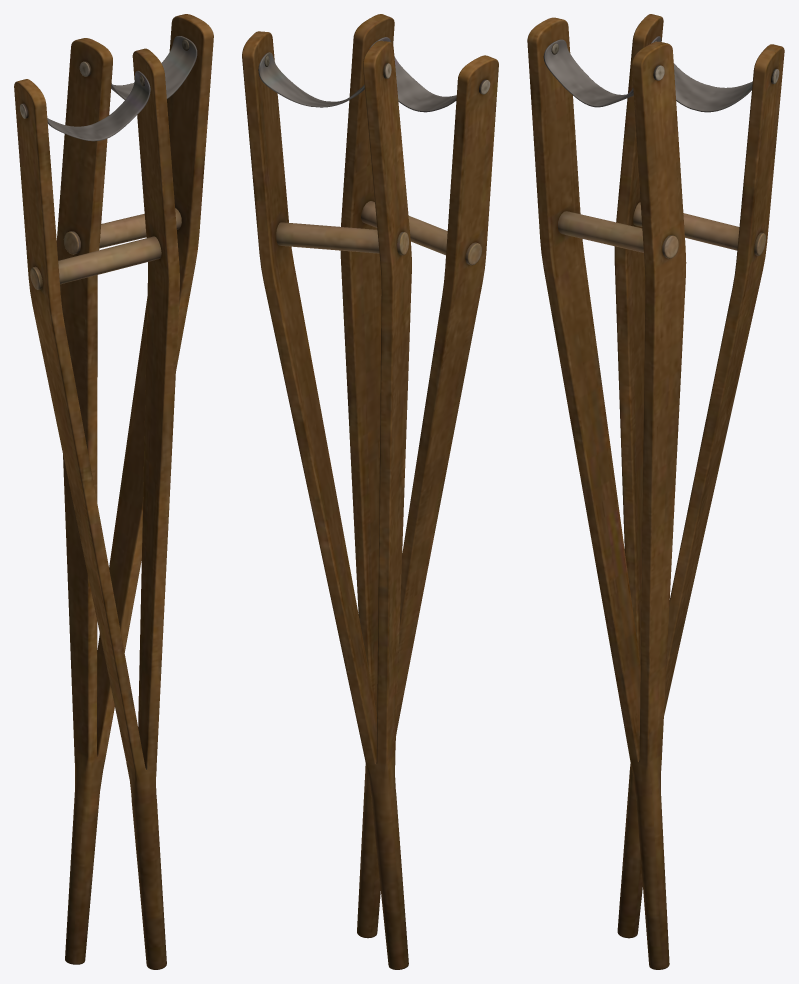
3 renders of one model, left to right at view 1: azimuth 30°, elevation 25°; view 2: azimuth 150°, elevation 25°; view 3: azimuth 330°, elevation 25°, orthographic.
Parts seen in each view (by area): view 1: vintage_crutches_01_crutch01, vintage_crutches_01_crutch02; view 2: vintage_crutches_01_crutch02, vintage_crutches_01_crutch01; view 3: vintage_crutches_01_crutch01, vintage_crutches_01_crutch02.
Boxes of the visible parts, x1=… form: vintage_crutches_01_crutch01: x1=14, y1=48, x2=179, y2=969; vintage_crutches_01_crutch02: x1=56, y1=14, x2=213, y2=964; vintage_crutches_01_crutch02: x1=242, y1=31, x2=411, y2=969; vintage_crutches_01_crutch01: x1=340, y1=14, x2=498, y2=938; vintage_crutches_01_crutch01: x1=527, y1=17, x2=686, y2=969; vintage_crutches_01_crutch02: x1=614, y1=14, x2=784, y2=938.
Size of the model in its own units: 0.3838 by 1.6 by 0.2036.
Materials: 1 (1 with a texture image).
